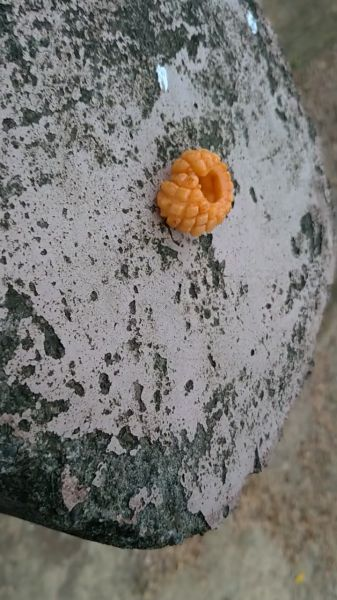eggs: (152, 139, 243, 241)
